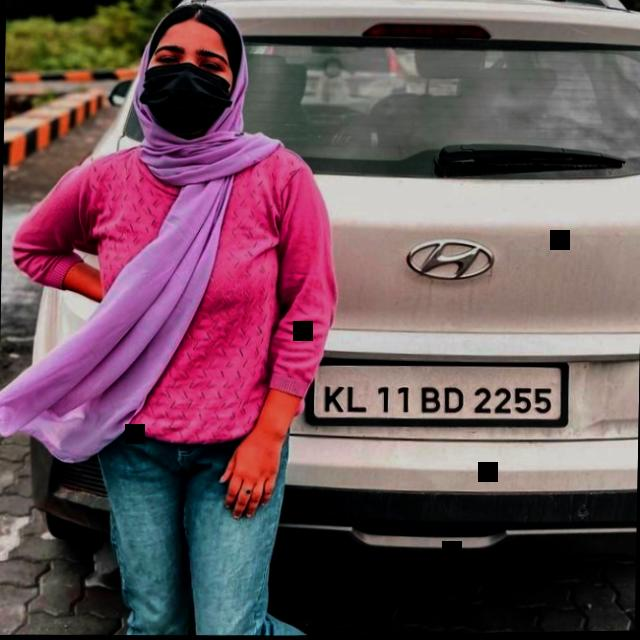Mask: (141, 32, 233, 137)
